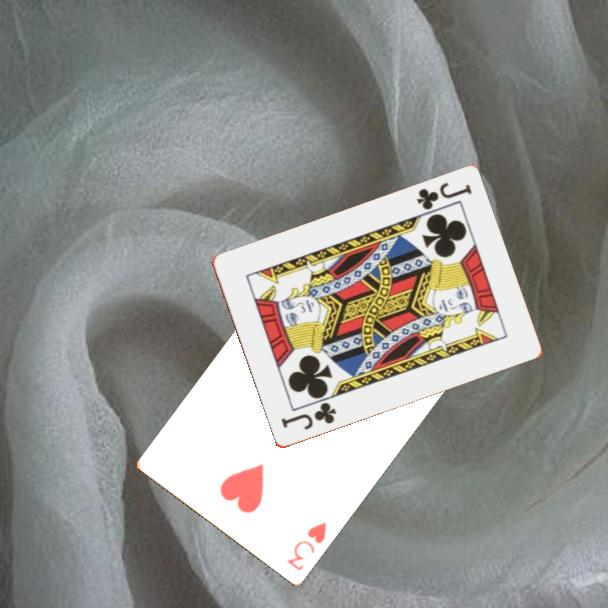c11: (277, 399, 339, 433), (413, 179, 475, 213)
h03: (283, 519, 329, 574)
